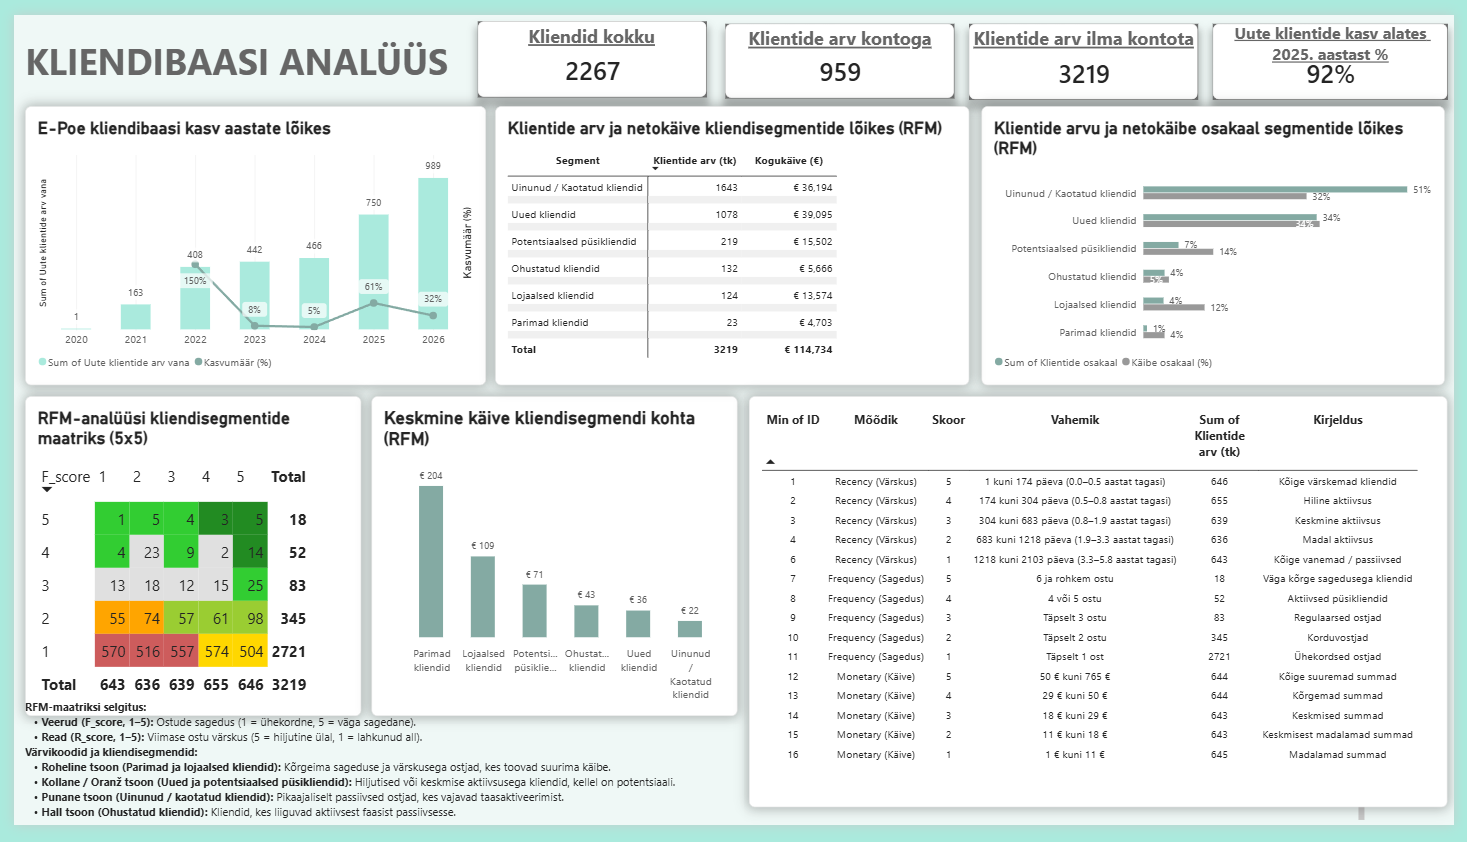

The page's visual inventory and layout, read from the dashboard file:
{"tool":"powerbi","page":{"name":"KLIENDIBAASI ANALÜÜS ","canvas":[1920,1080],"ordinal":2},"visuals":[{"type":"textbox","box":[14.3,28.5,945.7,82.4],"z":0},{"type":"cardVisual","fields":{"Data":["Sum(3 1 Kliendibaasi kasv aast lõik.Uute klientide arv vana)"]},"box":[1273.7,11.1,305.7,101.4],"z":1000},{"type":"cardVisual","fields":{"Data":["3 1 Kliendibaasi kasv aast lõik.Uute_kliendide_perioodide_võrdlus_%","3 1 Kliendibaasi kasv aast lõik.Uute_kliendide_perioodide_võrdlus_%"]},"box":[1598.4,11.1,313.7,101.4],"z":2000},{"type":"cardVisual","fields":{"Data":["Arvutused.Klientide_arv_kontoga"]},"box":[948.9,11.1,305.7,99.8],"z":3000},{"type":"cardVisual","fields":{"Data":["Arvutused.Klientide_arv_ilma_kontota"]},"box":[617.8,7.9,305.7,101.4],"z":4000},{"type":"textbox","box":[628.9,11.1,283.6,47.5],"z":6000},{"type":"textbox","box":[1598.4,7.9,313.7,61.8],"z":7000},{"type":"textbox","box":[964.8,14.3,272.5,68.1],"z":8000},{"type":"lineStackedColumnComboChart","title":"E-Poe kliendibaasi kasv aastate lõikes","fields":{"Category":["3 1 Kliendibaasi kasv aast lõik.Aasta"],"Y":["Sum(3 1 Kliendibaasi kasv aast lõik.Uute klientide arv vana)"],"Y2":["3 1 Kliendibaasi kasv aast lõik.Kasvumäär (%)"]},"box":[14.3,122,614.7,372.3],"z":9000},{"type":"pivotTable","title":"RFM-analüüsi kliendisegmentide maatriks (5x5)","fields":{"Columns":["Kliendid_detsember_RFM.R_score"],"Rows":["Kliendid_detsember_RFM.F_score"],"Values":["Count(Kliendid_detsember_RFM.customer_id)"]},"box":[14.3,508.5,448.3,426.1],"z":10000},{"type":"clusteredBarChart","title":"Klientide arvu ja netokäibe osakaal segmentide lõikes (RFM)","fields":{"Category":["3 2  RFM-analüüs.Segment"],"Y":["Sum(3 2  RFM-analüüs.Klientide osakaal)","3 2  RFM-analüüs.Käibe osakaal (%)"]},"box":[1289.5,122,617.8,372.3],"z":11000},{"type":"clusteredColumnChart","title":"Keskmine käive kliendisegmendi kohta (RFM)","fields":{"Category":["3 2  RFM-analüüs.Segment"],"Y":["Sum(3 2  RFM-analüüs.Keskmine käive (€))"]},"box":[476.8,508.5,487.9,426.1],"z":12000},{"type":"pivotTable","title":"Klientide arv ja netokäive kliendisegmentide lõikes (RFM)","fields":{"Rows":["3 2  RFM-analüüs.Segment"],"Values":["Sum(3 2  RFM-analüüs.Klientide arv (tk))","Sum(3 2  RFM-analüüs.Kogukäive (€))"]},"box":[641.6,122,632.1,372.3],"z":13000},{"type":"textbox","box":[14.3,910.9,1785.3,169.5],"z":15000},{"type":"tableEx","fields":{"Values":["Min(3 2 RFM mõõdud.ID)","3 2 RFM mõõdud.Mõõdik","3 2 RFM mõõdud.Skoor","3 2 RFM mõõdud.Vahemik","Sum(3 2 RFM mõõdud.Klientide arv (tk))","3 2 RFM mõõdud.Kirjeldus"]},"box":[980.6,508.5,931.5,548.1],"z":16000},{"type":"textbox","box":[1273.7,14.3,305.7,55.4],"z":17000}]}

Visuals, with their boxes in screenshot pixels (x1, y1, x2, y2), scaled from the page's 1920x1080 canvas onto the 1467x842 screenshot:
textbox: [11,22,734,86]
cardVisual - Sum(3 1 Kliendibaasi kasv aast lõik.Uute klientide arv vana): [973,9,1207,88]
cardVisual - 3 1 Kliendibaasi kasv aast lõik.Uute_kliendide_perioodide_võrdlus_% x 3 1 Kliendibaasi kasv aast lõik.Uute_kliendide_perioodide_võrdlus_%: [1221,9,1461,88]
cardVisual - Arvutused.Klientide_arv_kontoga: [725,9,959,86]
cardVisual - Arvutused.Klientide_arv_ilma_kontota: [472,6,706,85]
textbox: [481,9,697,46]
textbox: [1221,6,1461,54]
textbox: [737,11,945,64]
"E-Poe kliendibaasi kasv aastate lõikes" lineStackedColumnComboChart: [11,95,481,385]
"RFM-analüüsi kliendisegmentide maatriks (5x5)" pivotTable: [11,396,353,729]
"Klientide arvu ja netokäibe osakaal segmentide lõikes (RFM)" clusteredBarChart: [985,95,1457,385]
"Keskmine käive kliendisegmendi kohta (RFM)" clusteredColumnChart: [364,396,737,729]
"Klientide arv ja netokäive kliendisegmentide lõikes (RFM)" pivotTable: [490,95,973,385]
textbox: [11,710,1375,841]
tableEx - Min(3 2 RFM mõõdud.ID) x 3 2 RFM mõõdud.Mõõdik: [749,396,1461,824]
textbox: [973,11,1207,54]
